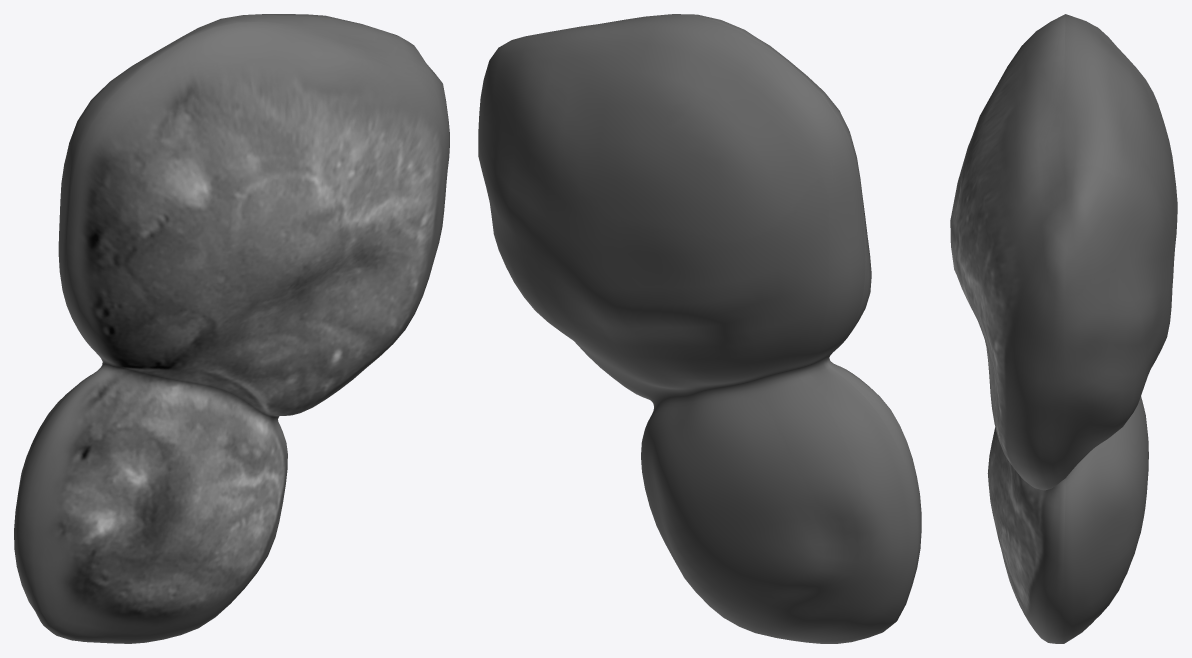
The model's file is arrokoth.glb.
3 views of the same model, side by side, from view 1: azimuth 30°, elevation 25°; view 2: azimuth 150°, elevation 25°; view 3: azimuth 270°, elevation 25° (orthographic). The views are drawn at different scales.
Parts seen in each view (by area): view 1: MU69; view 2: MU69; view 3: MU69.
Boxes of the visible parts, <box> form: MU69: <box>14,14,449,643</box>; MU69: <box>478,14,921,643</box>; MU69: <box>950,14,1177,643</box>.
Size of the model in its own units: 2258 by 2975 by 971.
1 material, 1 textured.
